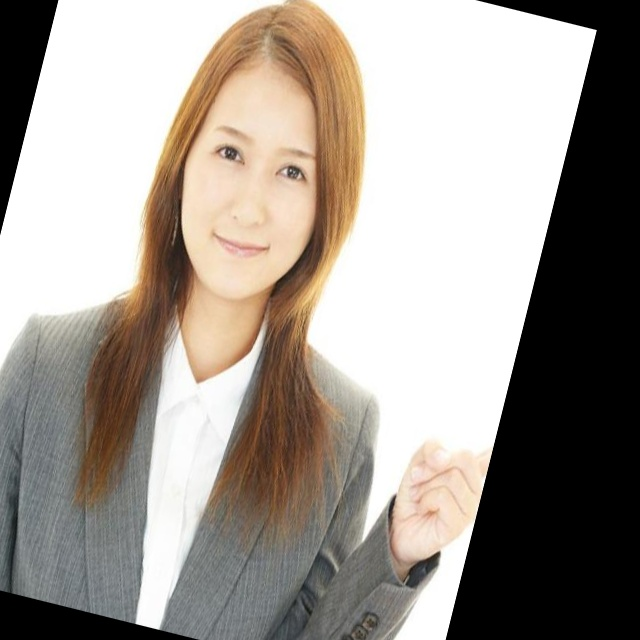Sin_Casco_Mascarrilla: (130, 0, 400, 322)
Sin_Chaleco: (0, 258, 401, 640)
